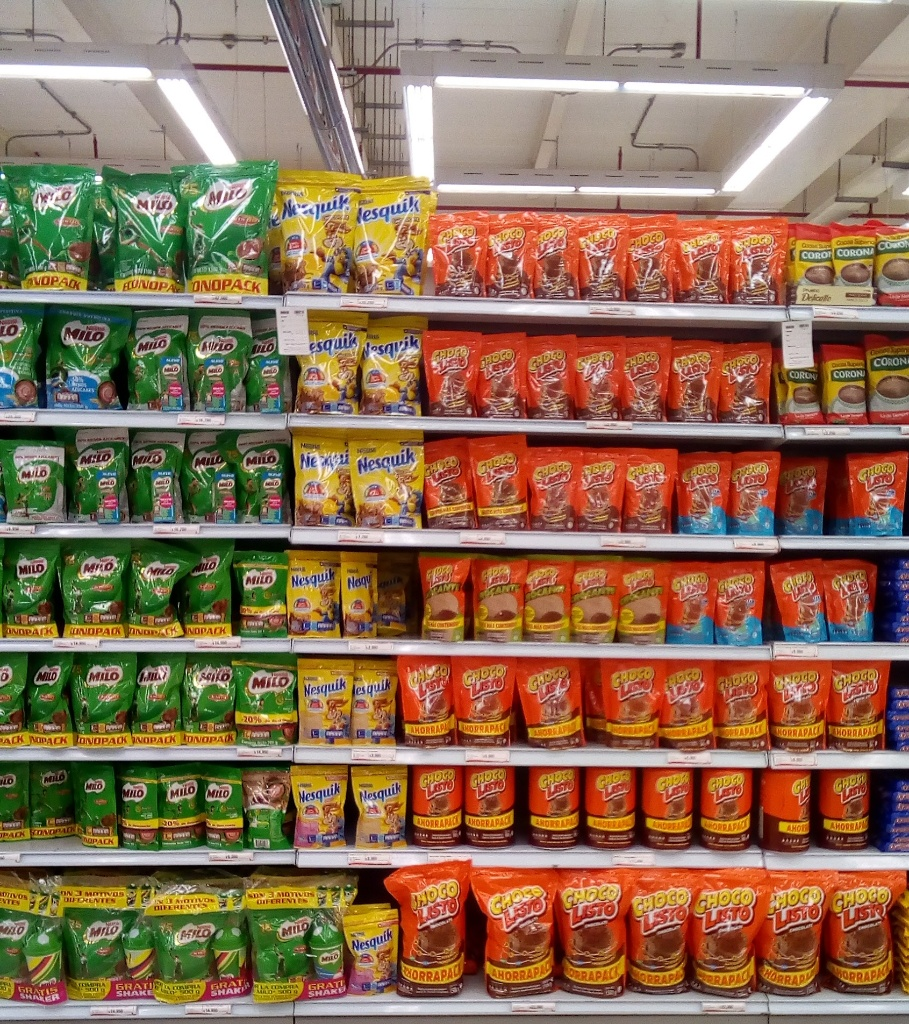COL0170103DYP1,500: (835, 870, 901, 994)
COL0170103DYP44000: (825, 660, 893, 758)
COL0170103TRR00100: (816, 767, 880, 860)
COL0170104DYP20000: (847, 450, 905, 535)
COL0170203DYP25000: (234, 546, 288, 639)
COL0170203DYP50000: (3, 539, 59, 640)
COL0170205DYP20000: (1, 440, 69, 523)
COL0170205DYP50000: (46, 300, 130, 413)
COL0170303DYP20000: (375, 552, 412, 635)
COL0170305DYP20000: (289, 763, 349, 848)
COL0170306DYP20000: (351, 660, 405, 744)
